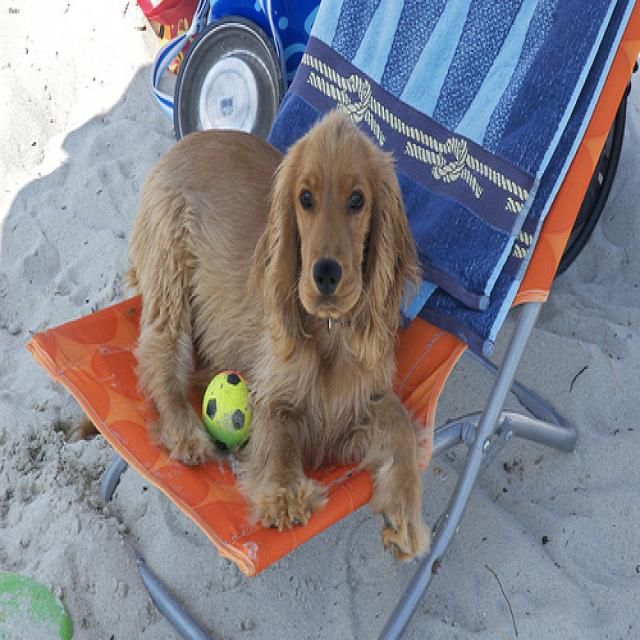dog-english_cocker_spaniel: (114, 104, 443, 575)
